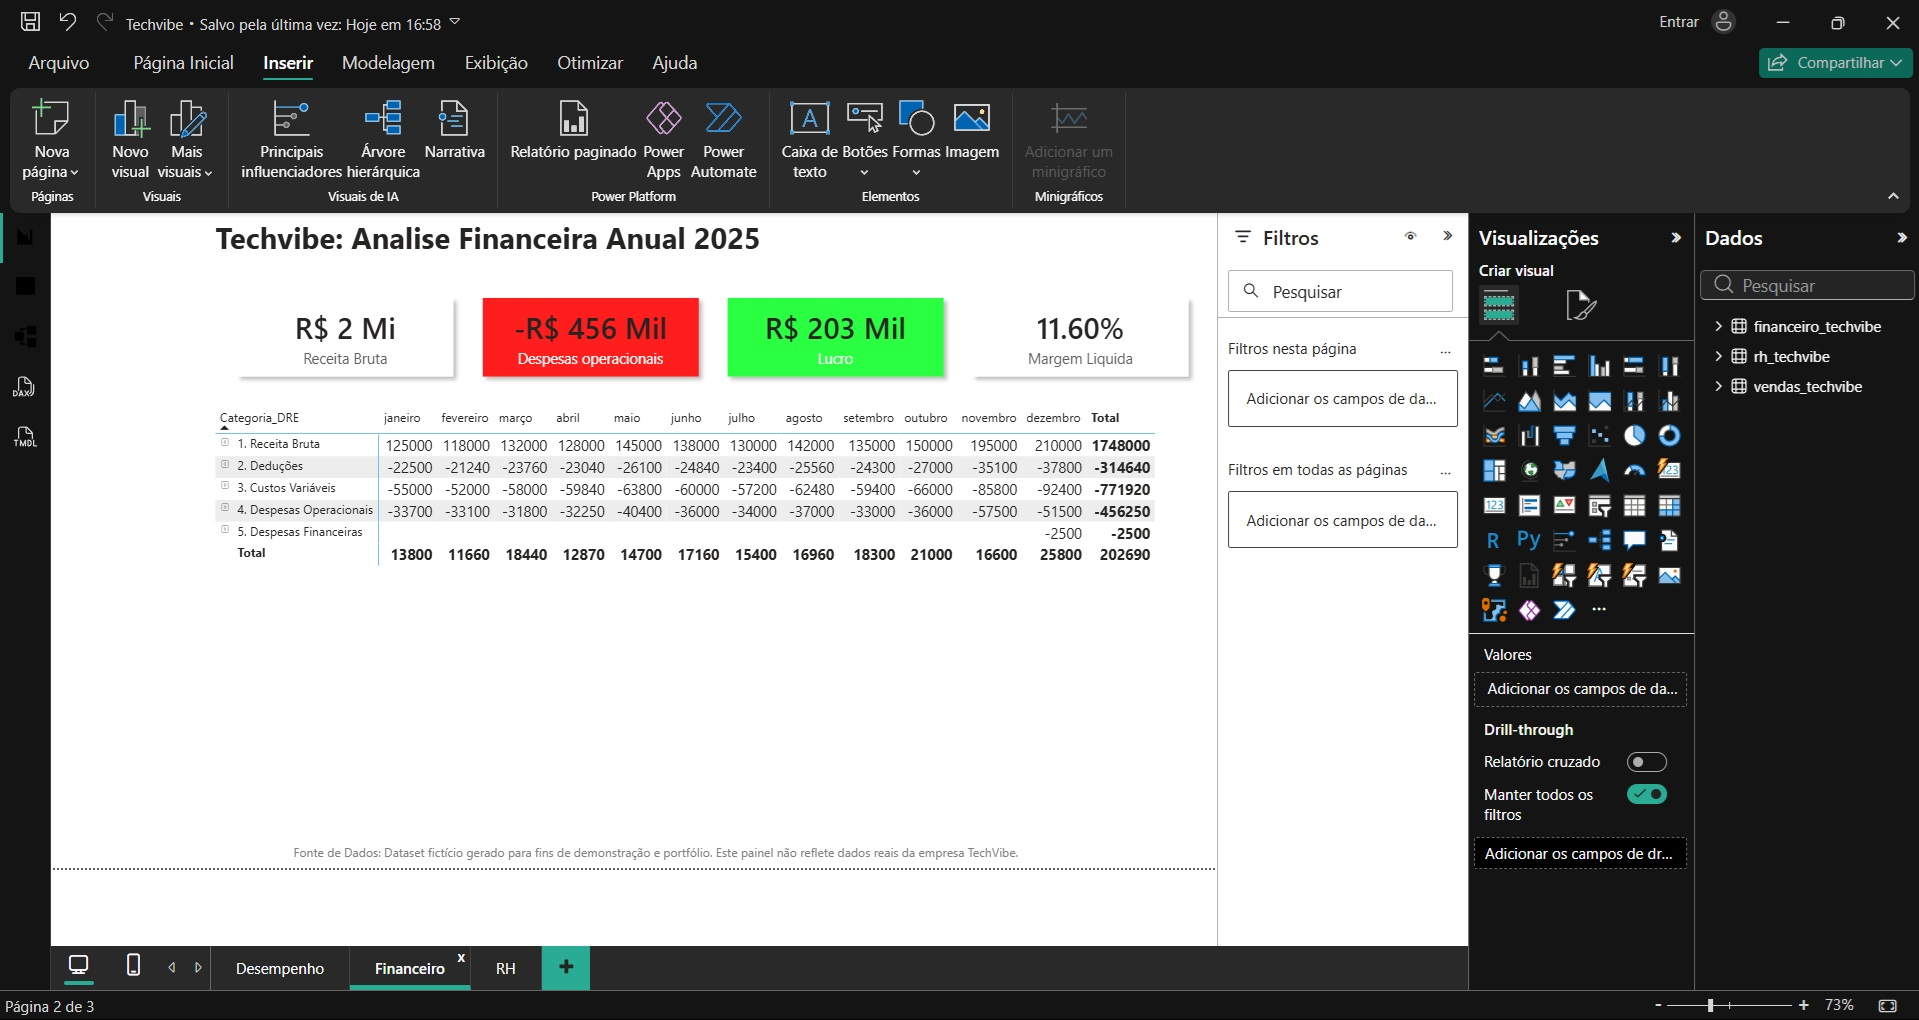

The page's visual inventory and layout, read from the dashboard file:
{"tool":"powerbi","page":{"name":"Financeiro","canvas":[1280,720],"ordinal":1},"visuals":[{"type":"cardVisual","fields":{"Data":["financeiro_techvibe.Receita Bruta","financeiro_techvibe.Despesas operacionais","financeiro_techvibe.Lucro","financeiro_techvibe.Margem Liquida %"]},"box":[176,64,1104,144],"z":0},{"type":"pivotTable","fields":{"Rows":["financeiro_techvibe.Categoria_DRE","financeiro_techvibe.Subcategoria"],"Columns":["financeiro_techvibe.Data.Variation.Hierarquia de datas.Mês"],"Values":["Sum(financeiro_techvibe.Valor)"]},"box":[176,208,1072,208],"z":1000},{"type":"textbox","box":[176,0,1104,80],"z":2000},{"type":"textbox","box":[48,688,1232,32],"z":2001}]}

Visuals, with their boxes on the page's 1280x720 design canvas (x1, y1, x2, y2). These are canvas units, not pixel positions in the 1919x1020 screenshot, which may show the page scaled, cropped or inside an application window:
cardVisual - financeiro_techvibe.Receita Bruta x financeiro_techvibe.Despesas operacionais: crop(176, 64, 1280, 208)
pivotTable - financeiro_techvibe.Categoria_DRE x financeiro_techvibe.Subcategoria: crop(176, 208, 1248, 416)
textbox: crop(176, 0, 1280, 80)
textbox: crop(48, 688, 1280, 720)
